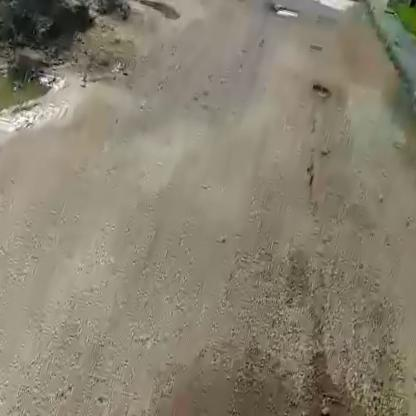pothole: (311, 0, 363, 15), (270, 3, 302, 22), (308, 81, 333, 101)
